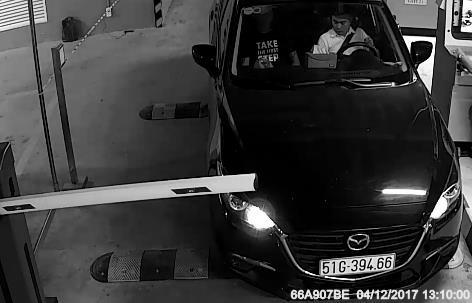License-plate: (311, 242, 409, 287)
